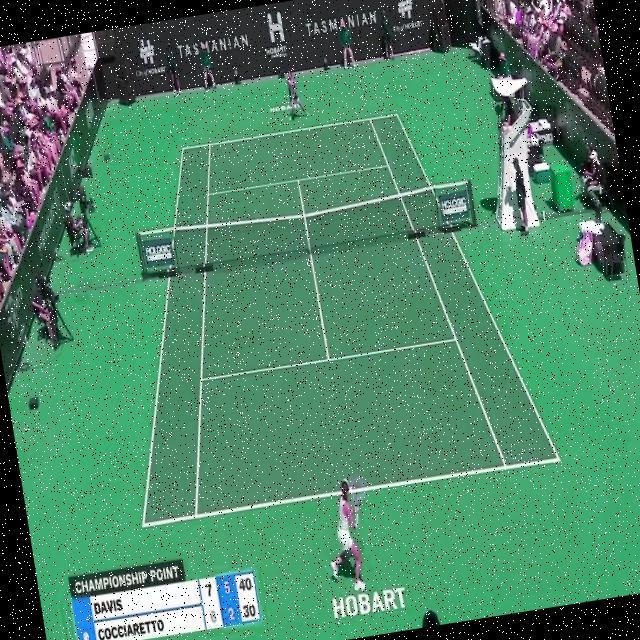court: (84, 94, 563, 530)
net: (134, 179, 480, 282)
player: (316, 474, 382, 596)
